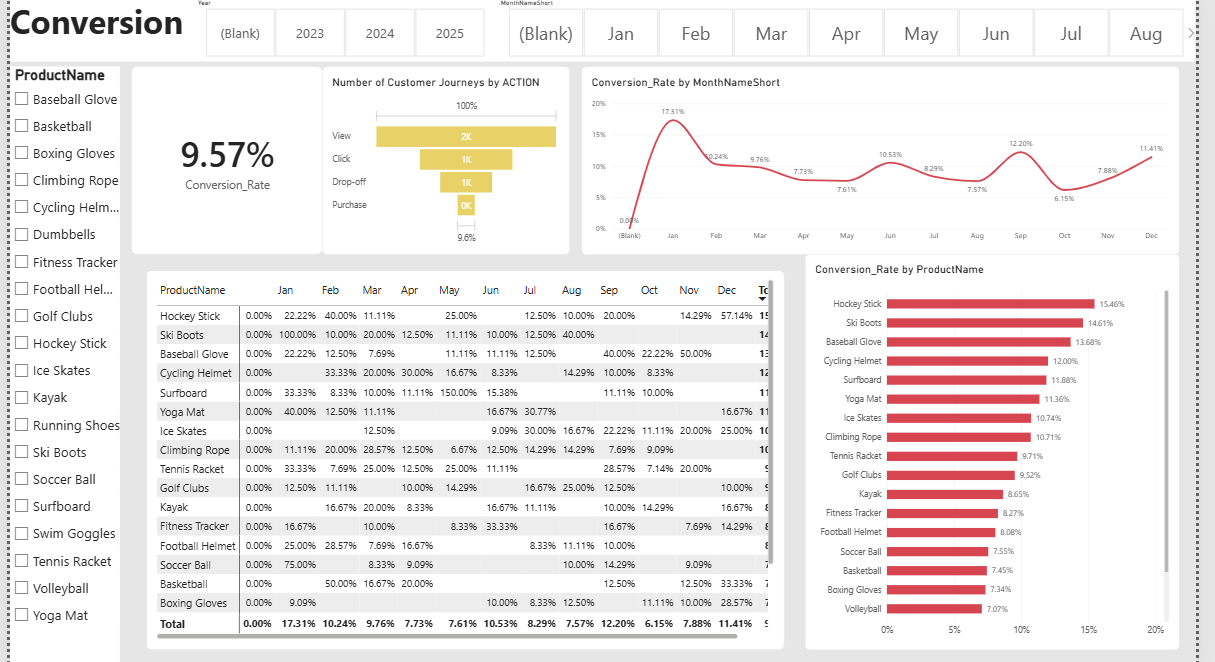

This screenshot's page, from the dashboard's own definition file:
{"tool":"powerbi","page":{"name":"Conversion","canvas":[1920,1080],"ordinal":1},"visuals":[{"type":"textbox","box":[0,0,1919.2,101.5],"z":0},{"type":"slicer","fields":{"Values":["dm_products.ProductName"]},"box":[0,109,178.3,970.7],"z":1000},{"type":"textbox","box":[178.3,624,237.7,227.8],"z":2000},{"type":"textbox","box":[505.2,109,260,309.5],"z":3000},{"type":"cardVisual","fields":{"Data":["_Calculations.Conversion_Rate"]},"box":[195.6,109,309.5,304.6],"z":4000},{"type":"slicer","fields":{"Values":["Calendar.Year"]},"box":[296.3,0,490.6,94.7],"z":5000},{"type":"slicer","fields":{"Values":["Calendar.MonthNameShort"]},"box":[786.9,0,1131.8,94.7],"z":6000},{"type":"lineChart","fields":{"Category":["Calendar.MonthNameShort"],"Y":["_Calculations.Conversion_Rate"]},"box":[926.2,109,968.3,304.6],"z":7000},{"type":"barChart","fields":{"Category":["dm_products.ProductName"],"Y":["_Calculations.Conversion_Rate"]},"box":[1287.7,413.6,606.7,641.4],"z":8000},{"type":"funnel","fields":{"Category":["fact_customer_journey.ACTION"],"Y":["_Calculations.Number of Customer Journeys"]},"box":[505.2,109,401.2,304.6],"z":9000},{"type":"pivotTable","fields":{"Columns":["Calendar.MonthNameShort"],"Rows":["dm_products.ProductName"],"Values":["_Calculations.Conversion_Rate"]},"box":[221,439.6,1049.3,614.5],"z":10000}]}

Visuals, with their boxes on the page's 1920x1080 design canvas (x1, y1, x2, y2). These are canvas units, not pixel positions in the 1215x662 screenshot, which may show the page scaled, cropped or inside an application window:
textbox: 0/0/1919/102
slicer - dm_products.ProductName: 0/109/178/1080
textbox: 178/624/416/852
textbox: 505/109/765/418
cardVisual - _Calculations.Conversion_Rate: 196/109/505/414
slicer - Calendar.Year: 296/0/787/95
slicer - Calendar.MonthNameShort: 787/0/1919/95
lineChart - Calendar.MonthNameShort x _Calculations.Conversion_Rate: 926/109/1894/414
barChart - dm_products.ProductName x _Calculations.Conversion_Rate: 1288/414/1894/1055
funnel - fact_customer_journey.ACTION x _Calculations.Number of Customer Journeys: 505/109/906/414
pivotTable - Calendar.MonthNameShort x dm_products.ProductName: 221/440/1270/1054
